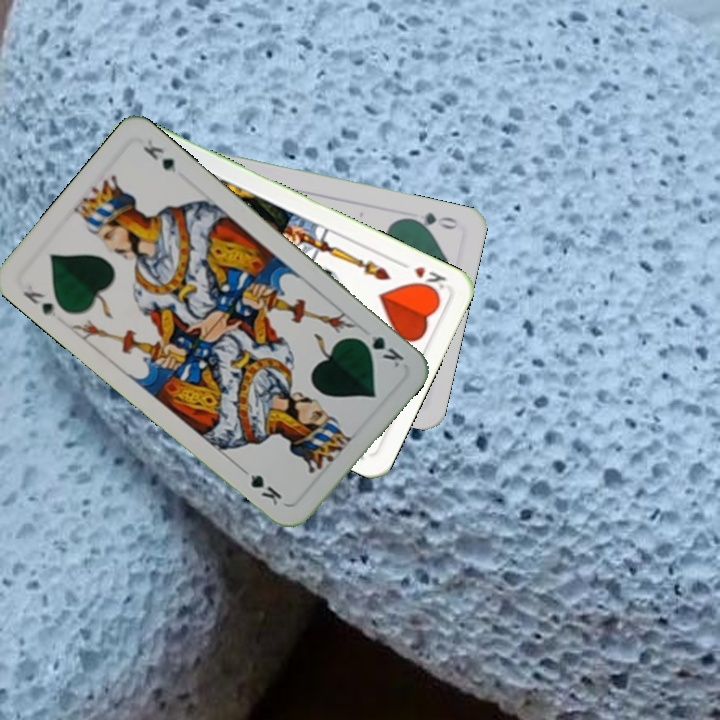GK: (353, 331, 407, 370), (18, 287, 61, 320)
GO: (402, 208, 462, 233)
HK: (394, 256, 449, 297)
